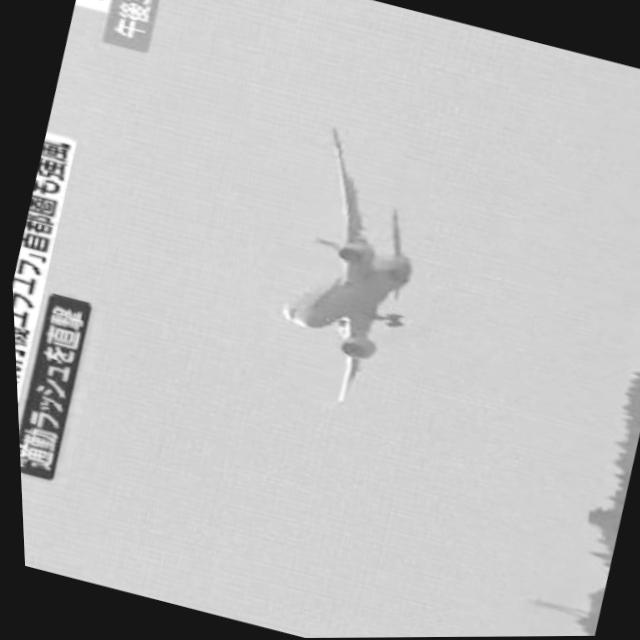aeroplane: (231, 119, 458, 421)
